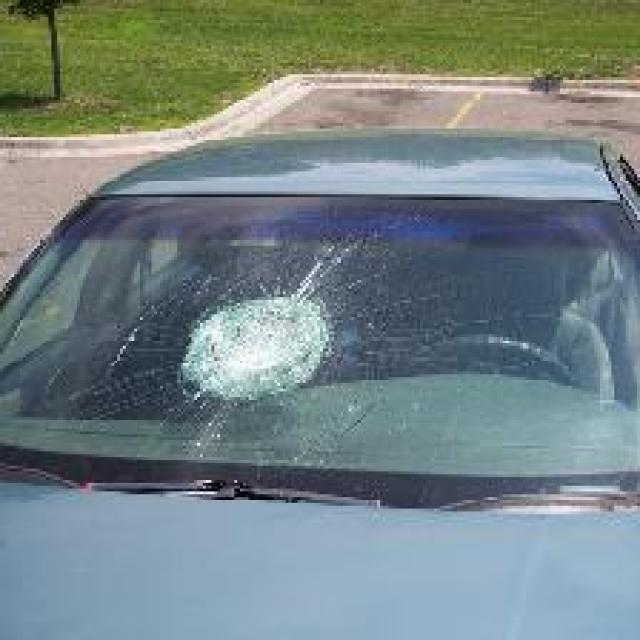glass_shatter_moderate: (69, 211, 460, 437)
